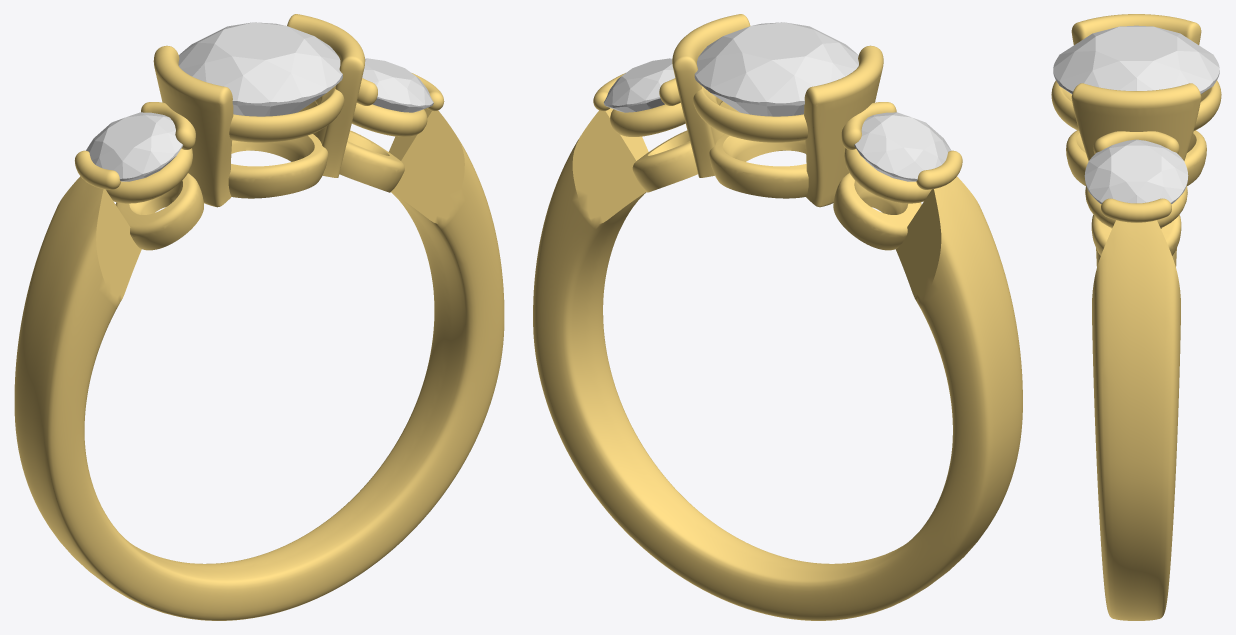
File: diamond-round-yellowgold-halfmoonbezel-straighttaperedband-2stone.glb
3 views of the same model, side by side, from view 1: azimuth 30°, elevation 25°; view 2: azimuth 150°, elevation 25°; view 3: azimuth 270°, elevation 25° (orthographic). The views are drawn at different scales.
Parts seen in each view (by area): view 1: metal, stone, side, side.001; view 2: metal, stone, side, side.001; view 3: metal, stone, side.001.
Boxes of the visible parts, x1,y1,x2,y2 form: metal: [14, 14, 504, 620]; stone: [178, 22, 342, 116]; side: [86, 112, 182, 181]; side.001: [362, 58, 433, 112]; metal: [533, 14, 1022, 620]; stone: [694, 22, 858, 116]; side: [854, 112, 951, 181]; side.001: [603, 58, 675, 112]; metal: [1051, 14, 1221, 620]; stone: [1053, 25, 1219, 94]; side.001: [1084, 139, 1188, 203].
Size of the model in its own units: 20.1 by 23.61 by 6.58.
